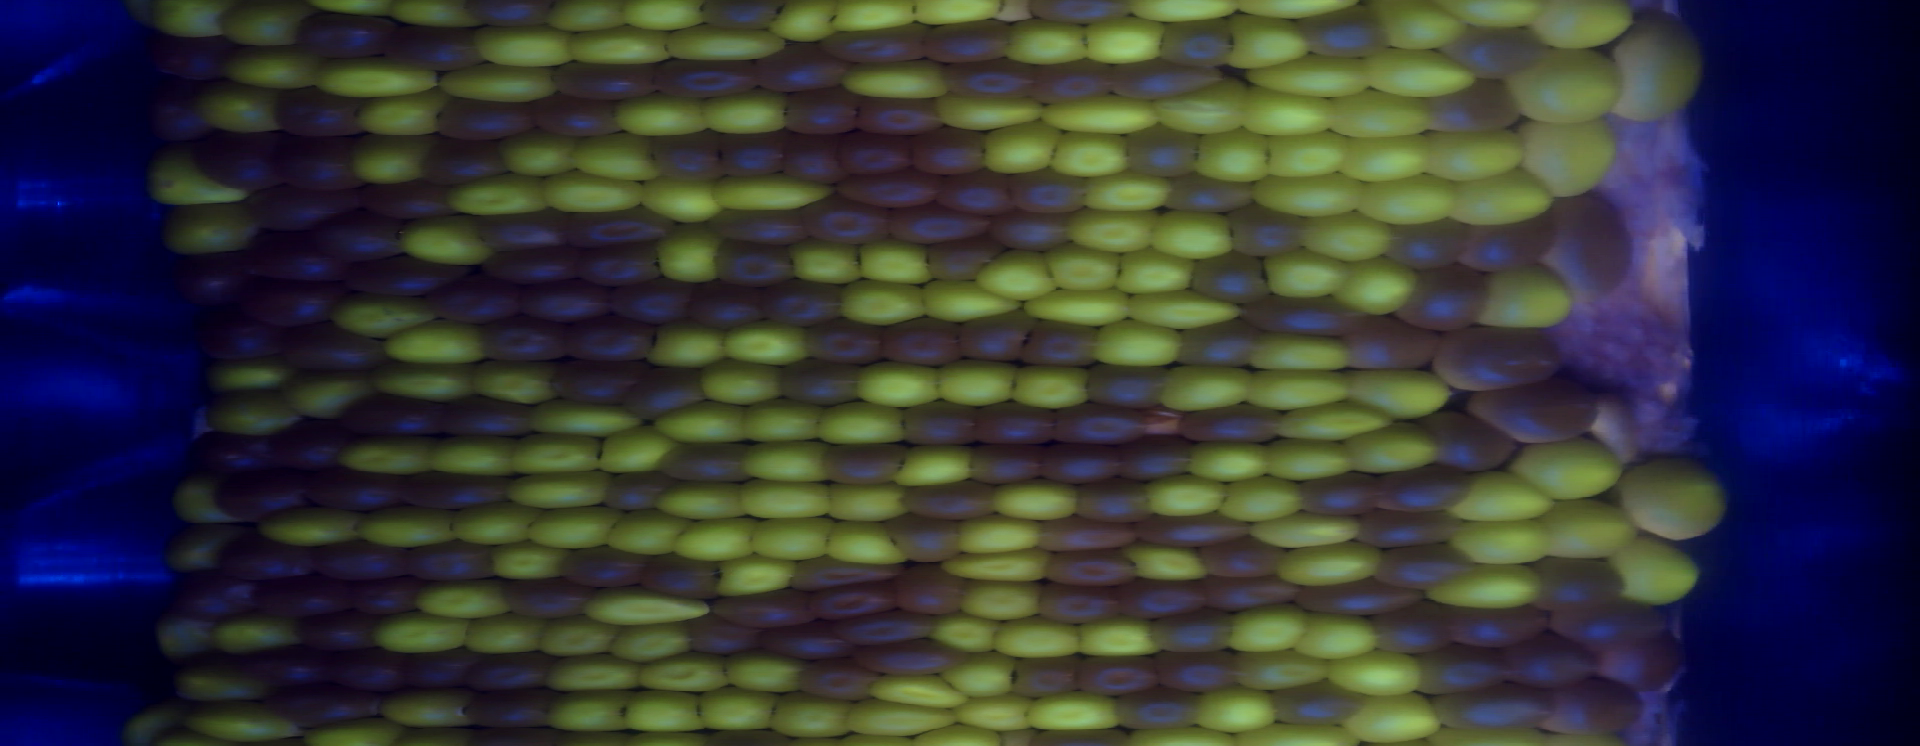fluorescent: (1603, 1, 1709, 130), (1498, 42, 1635, 127), (1614, 448, 1736, 543), (1517, 111, 1625, 198), (1511, 430, 1624, 508), (1471, 256, 1577, 336), (1604, 528, 1709, 608), (1536, 494, 1648, 567), (1358, 39, 1480, 104), (1444, 465, 1567, 529), (571, 581, 716, 635), (386, 206, 497, 276), (1343, 363, 1462, 428), (137, 148, 257, 212), (1442, 168, 1562, 230), (1291, 207, 1411, 269), (1444, 514, 1566, 575), (242, 497, 370, 555), (173, 692, 309, 746), (1418, 125, 1531, 190), (1427, 556, 1551, 614), (1275, 394, 1402, 451), (271, 369, 389, 429), (514, 393, 654, 443), (1223, 9, 1320, 81), (703, 167, 835, 219), (152, 197, 267, 257), (371, 315, 490, 372), (539, 160, 653, 220), (1333, 132, 1449, 191), (1352, 171, 1469, 229), (1276, 537, 1393, 594), (456, 20, 580, 73), (1146, 76, 1254, 138), (1321, 252, 1424, 317), (1324, 86, 1439, 143), (1037, 92, 1166, 143), (1343, 419, 1449, 481), (160, 654, 274, 712), (599, 91, 715, 147), (1240, 82, 1347, 143), (323, 288, 447, 341), (460, 350, 564, 413), (189, 78, 290, 142), (1217, 599, 1319, 663), (1239, 363, 1359, 416), (1340, 686, 1447, 746), (348, 499, 467, 552), (433, 59, 563, 108), (913, 274, 1029, 330), (211, 43, 331, 96), (310, 53, 442, 100), (342, 129, 444, 190), (442, 169, 553, 225), (1150, 360, 1261, 416), (370, 605, 481, 661), (814, 394, 923, 452), (936, 543, 1060, 593), (684, 677, 789, 737), (329, 429, 444, 483), (998, 11, 1097, 73), (1086, 314, 1191, 372), (650, 392, 756, 451), (564, 127, 667, 187), (520, 499, 627, 556), (1523, 1, 1640, 54), (692, 353, 793, 413), (1019, 688, 1134, 741), (1245, 506, 1369, 555), (658, 21, 791, 66), (669, 510, 771, 568), (1013, 281, 1133, 331), (1255, 434, 1367, 488), (1249, 173, 1371, 222), (419, 428, 523, 485), (1359, 1, 1476, 53), (819, 514, 918, 575), (404, 573, 517, 626), (973, 115, 1067, 179), (834, 58, 958, 105), (200, 393, 317, 443), (975, 243, 1065, 307), (1184, 124, 1276, 187), (836, 272, 932, 333), (1243, 327, 1359, 377), (531, 646, 648, 696), (367, 356, 480, 408), (638, 316, 738, 374), (732, 392, 833, 450), (1145, 206, 1243, 265), (987, 472, 1085, 530), (1325, 647, 1431, 701), (733, 474, 842, 527), (953, 572, 1054, 628), (1119, 290, 1249, 334), (862, 668, 978, 717), (928, 353, 1025, 412), (605, 503, 705, 560), (370, 682, 482, 733), (1211, 473, 1309, 530), (1256, 127, 1356, 184), (1292, 608, 1391, 664), (931, 89, 1051, 136), (444, 494, 541, 551), (209, 1, 320, 51), (1044, 127, 1142, 184), (1067, 206, 1164, 262), (1188, 684, 1286, 740), (637, 167, 729, 227), (1107, 244, 1202, 301), (984, 612, 1089, 665), (1138, 465, 1232, 523), (617, 680, 711, 737), (347, 88, 449, 141), (692, 87, 792, 141), (849, 355, 944, 412), (495, 430, 607, 478), (1180, 432, 1276, 489), (491, 124, 580, 184), (1040, 236, 1125, 299), (763, 690, 862, 744), (454, 608, 551, 663), (529, 610, 626, 665), (604, 615, 700, 670), (1260, 244, 1351, 303), (1007, 360, 1101, 416), (736, 434, 834, 488), (1229, 646, 1337, 695), (647, 223, 731, 285), (159, 517, 239, 583), (719, 314, 809, 371), (1078, 13, 1174, 67), (204, 614, 313, 661), (563, 24, 675, 71), (500, 464, 613, 510), (749, 507, 836, 566), (1064, 612, 1166, 663), (707, 551, 803, 604), (650, 478, 757, 526), (632, 646, 738, 693), (197, 352, 306, 398), (1074, 169, 1177, 218), (841, 695, 958, 737), (944, 687, 1043, 737), (951, 510, 1053, 559), (591, 423, 681, 478), (149, 603, 220, 671), (853, 234, 938, 292), (535, 686, 637, 734), (786, 232, 866, 292), (936, 648, 1022, 702), (164, 475, 244, 534), (895, 437, 980, 492), (479, 538, 569, 588), (924, 608, 1008, 661), (718, 648, 813, 695), (820, 479, 912, 527), (300, 707, 410, 746), (1120, 541, 1213, 587), (144, 1, 238, 45), (541, 1, 634, 43), (760, 1, 846, 45), (825, 1, 920, 39), (1231, 722, 1370, 746), (613, 1, 711, 36), (1120, 1, 1249, 27), (1436, 1, 1544, 32), (109, 701, 175, 746), (906, 1, 1003, 29)
nonfluorescent: (1544, 191, 1641, 307), (1427, 320, 1571, 396), (1466, 374, 1605, 450), (1414, 402, 1529, 477), (1540, 673, 1657, 744), (1452, 208, 1570, 277), (1393, 258, 1496, 337), (1416, 73, 1527, 145), (1431, 677, 1562, 737), (186, 122, 288, 198), (296, 457, 416, 521), (1439, 20, 1555, 85), (1340, 310, 1449, 379), (260, 677, 391, 734), (1411, 639, 1523, 704), (1524, 552, 1635, 619), (1442, 597, 1564, 657), (1498, 630, 1609, 695), (1291, 572, 1430, 624), (1548, 597, 1678, 652), (291, 6, 400, 71), (276, 318, 393, 379), (1240, 292, 1374, 344), (244, 178, 365, 235), (235, 271, 348, 332), (240, 233, 359, 290), (339, 249, 471, 300), (182, 423, 289, 486), (1588, 628, 1692, 693), (271, 132, 373, 197), (163, 247, 266, 311), (337, 391, 456, 446), (545, 355, 654, 415), (429, 391, 544, 447), (207, 532, 324, 587), (393, 465, 516, 518), (555, 205, 686, 254), (1373, 461, 1487, 517), (268, 81, 369, 145), (1106, 55, 1229, 107), (396, 533, 506, 590), (700, 201, 820, 254), (656, 432, 762, 492), (1371, 540, 1483, 597), (615, 360, 708, 428), (1291, 1, 1395, 61), (193, 304, 291, 367), (422, 272, 530, 330), (850, 635, 980, 682), (649, 51, 767, 104), (1349, 503, 1469, 555), (1044, 399, 1156, 454), (874, 312, 969, 377), (144, 28, 244, 89), (432, 93, 544, 147), (545, 56, 667, 105), (1365, 599, 1463, 660), (382, 21, 486, 78), (1176, 401, 1292, 452), (680, 274, 771, 339), (479, 239, 587, 294), (1127, 508, 1260, 552), (781, 551, 907, 598), (752, 40, 851, 99), (1122, 119, 1210, 185), (1271, 674, 1370, 733), (896, 474, 1004, 528), (208, 473, 313, 528), (1381, 214, 1472, 278), (814, 21, 932, 70), (883, 200, 1000, 249), (529, 91, 636, 145), (307, 213, 414, 267), (951, 305, 1047, 365), (1172, 316, 1267, 376), (775, 352, 871, 412), (564, 309, 664, 366), (512, 276, 617, 330), (1030, 577, 1130, 633), (633, 548, 731, 605), (1011, 315, 1107, 374), (1583, 388, 1651, 472), (249, 570, 358, 621), (812, 437, 913, 492), (1182, 247, 1275, 307), (709, 238, 806, 295), (418, 134, 512, 192), (1142, 606, 1243, 661), (834, 164, 947, 213), (309, 537, 421, 586), (800, 312, 891, 372), (885, 560, 973, 622), (756, 616, 862, 668), (756, 276, 855, 331), (1149, 643, 1248, 698), (1226, 200, 1311, 263), (1080, 359, 1177, 415), (708, 586, 822, 633), (467, 205, 574, 255), (474, 312, 572, 367), (262, 415, 350, 477), (891, 398, 987, 454), (393, 641, 489, 697), (137, 76, 216, 145), (320, 642, 413, 699), (1191, 533, 1293, 586), (918, 15, 1018, 69), (834, 604, 943, 653), (569, 236, 666, 292), (164, 568, 261, 624), (1113, 573, 1216, 625), (1026, 58, 1124, 111), (798, 194, 894, 249), (460, 643, 560, 696), (560, 538, 648, 597), (500, 570, 591, 626), (774, 127, 853, 192), (1068, 649, 1171, 699), (1194, 570, 1308, 615), (241, 638, 337, 692), (1033, 511, 1144, 557), (1294, 470, 1393, 522), (1108, 679, 1202, 733), (1038, 436, 1128, 492), (1109, 431, 1199, 488), (454, 686, 560, 734), (609, 274, 696, 332), (971, 396, 1057, 453), (882, 510, 967, 567), (961, 440, 1054, 492), (801, 576, 900, 625), (366, 174, 460, 225), (1004, 168, 1096, 220), (1036, 546, 1142, 592), (986, 203, 1075, 257), (285, 606, 383, 655), (647, 129, 733, 184), (1156, 13, 1237, 72), (780, 85, 868, 138), (918, 233, 999, 292), (849, 93, 948, 141), (1068, 479, 1160, 530), (1003, 649, 1086, 706), (1160, 169, 1258, 217), (793, 657, 885, 706), (831, 127, 915, 181), (911, 121, 991, 178), (940, 60, 1042, 104), (599, 465, 681, 519), (936, 167, 1015, 220), (683, 611, 763, 665), (713, 129, 789, 185), (349, 575, 424, 624), (1020, 1, 1138, 31), (462, 1, 556, 32), (693, 1, 782, 33)
